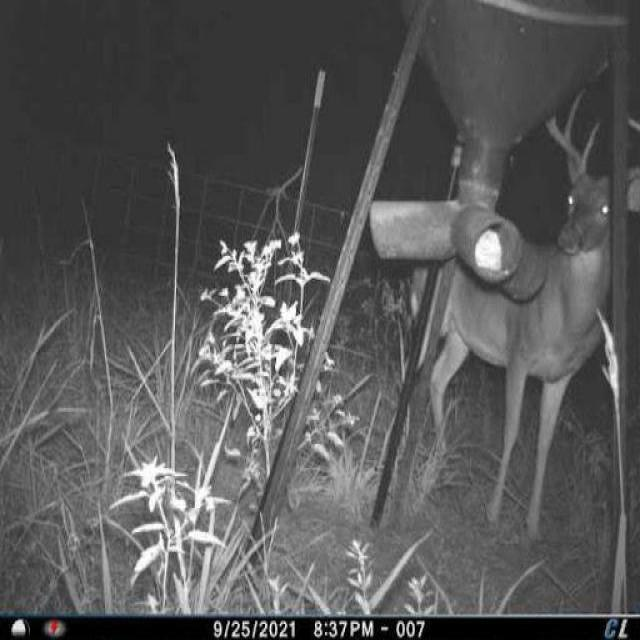deer: (414, 84, 640, 536)
